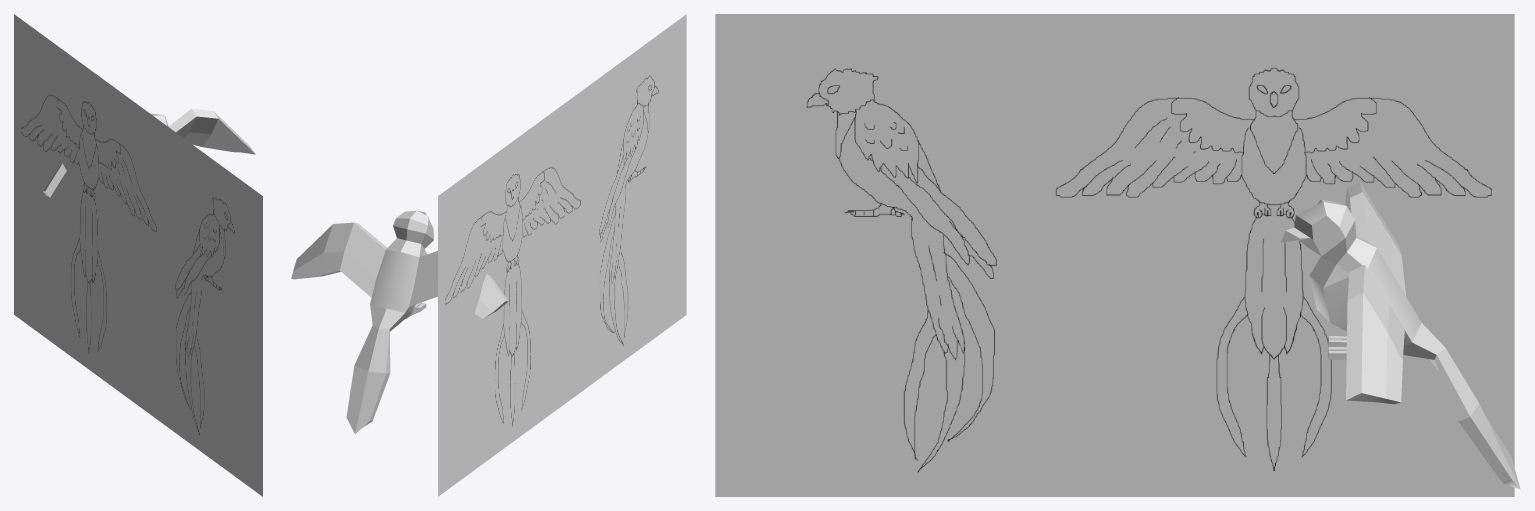
Rendered from LowPolyQuetzal.FBX.
3 renders of one model, left to right at view 1: azimuth 30°, elevation 25°; view 2: azimuth 150°, elevation 25°; view 3: azimuth 270°, elevation 25°, orthographic. The views are drawn at different scales.
Visible parts, largest first — view 1: Plane002, Box001; view 2: Plane002, Box001; view 3: Plane002, Box001.
Boxes of the visible parts, left/top/right/bottom form: Plane002: left=14, top=14, right=262, bottom=496; Box001: left=43, top=108, right=255, bottom=197; Plane002: left=438, top=14, right=686, bottom=496; Box001: left=291, top=210, right=508, bottom=433; Plane002: left=715, top=14, right=1514, bottom=496; Box001: left=1281, top=181, right=1520, bottom=489.
Bounding box in the file's own units: 56.91 × 78.74 × 119.
Materials: 1 (1 with a texture image).
